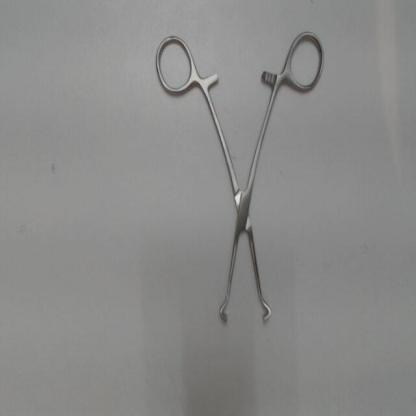Babcock Tissue Forceps: (151, 28, 331, 326)
